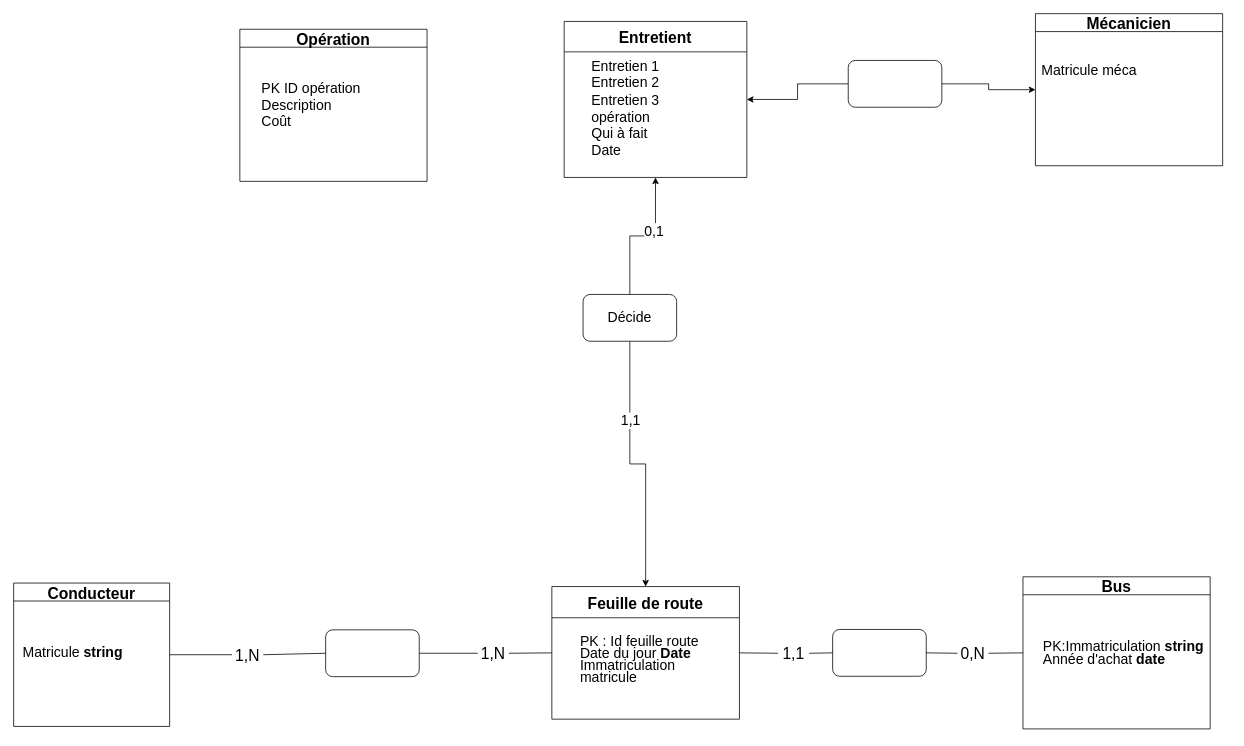
The diagram is 1244 pixels wide and 746 high, and some of its shapes have lost their labels. The centre of each missing label's shape, as x and y in pixels:
"Posséder" goes at (879,652).
"remplir" goes at (372,653).
"éffectue" goes at (894,83).
